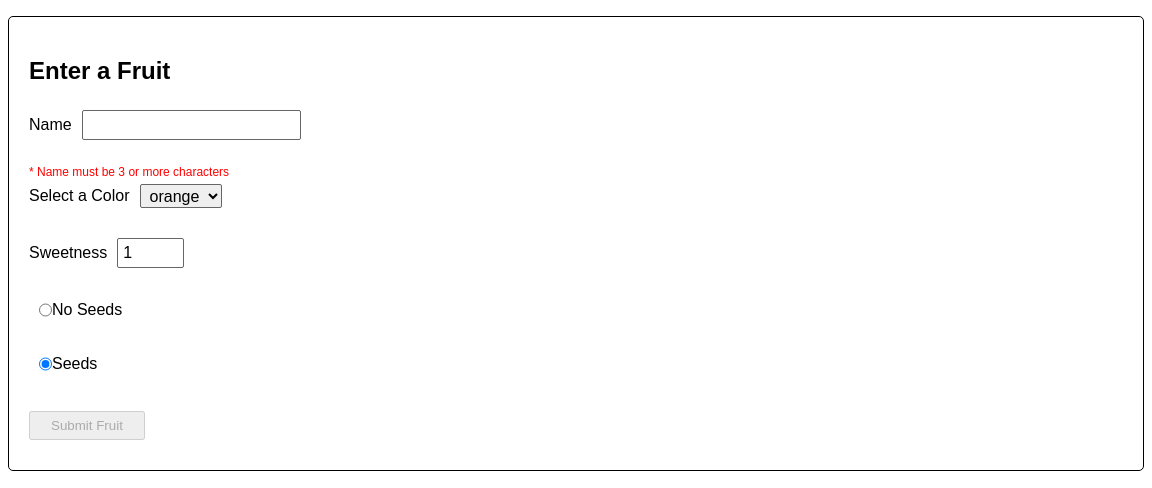
(17 points) FruitForm › (1 point) should show a "Name must be 20 characters or less" error if name is too long
The image size is (1152, 488).
Type "This name is much more than 20 characters long" into the field labelled "Name".
click(191, 125); type("This name is much more than 20 characters long")  # box left=82, top=110, right=301, bottom=140
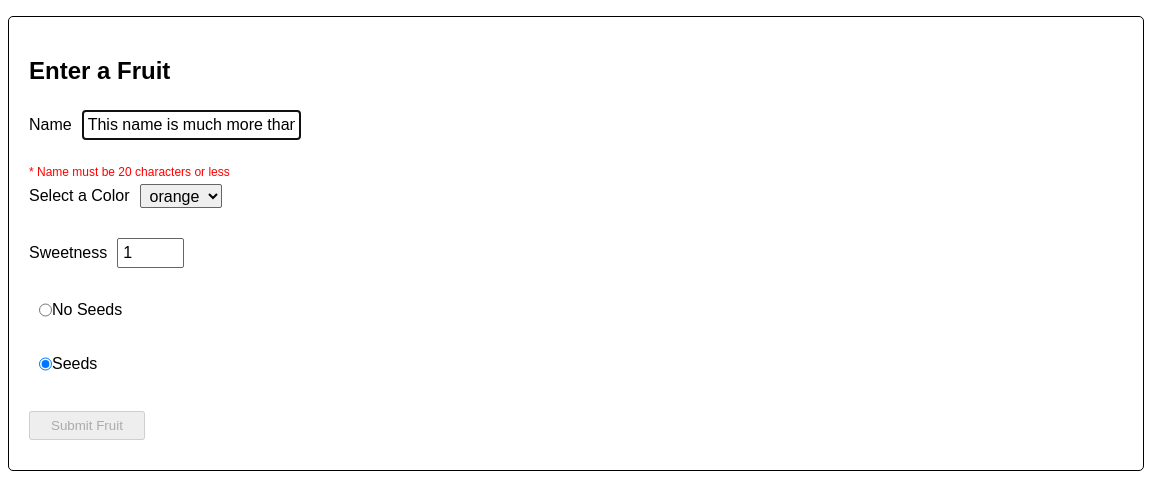
Now the text "* Name must be 20 characters or less" is shown, box left=29, top=165, right=230, bottom=179
Now the text "Name must be 3 or more characters" is gone
